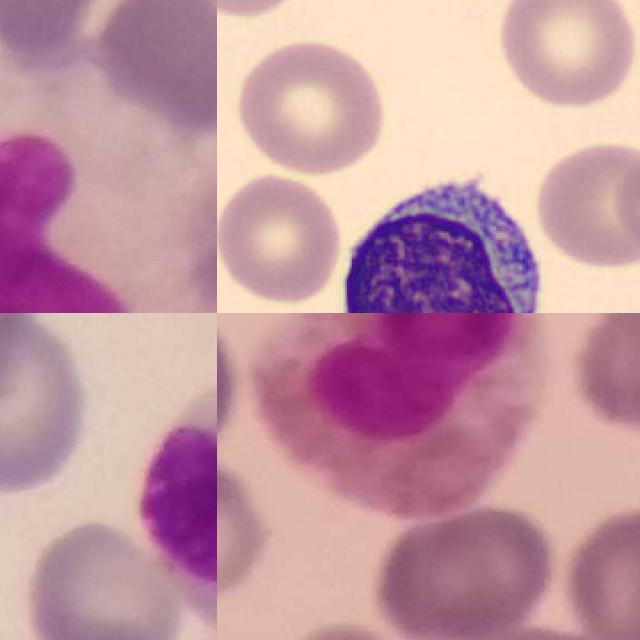Eosinophil: (256, 313, 538, 519)
Lymphocyte: (325, 157, 554, 313)
Monocyte: (0, 122, 144, 313), (144, 373, 217, 638)
RBC: (230, 36, 388, 179), (217, 171, 343, 307), (492, 0, 640, 111), (530, 136, 640, 272), (610, 146, 640, 261), (217, 0, 315, 21)
